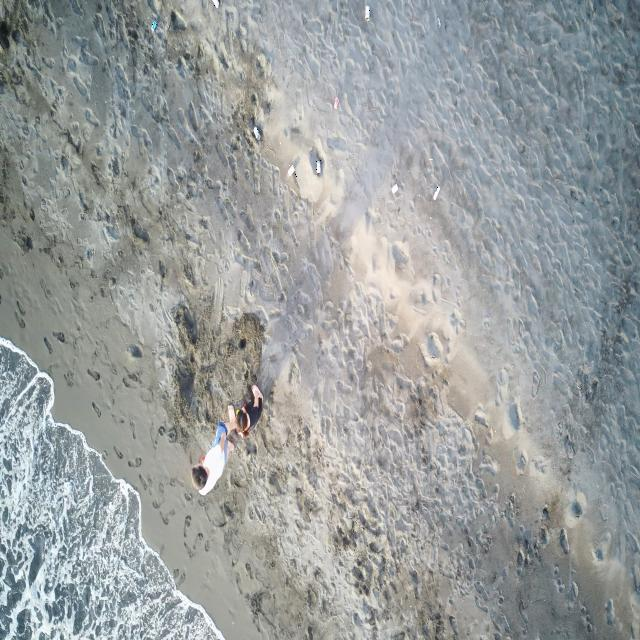tin-and-aluminum-cans: (286, 164, 297, 179), (253, 127, 261, 141), (150, 20, 158, 33), (433, 186, 440, 200), (365, 5, 370, 22), (316, 160, 321, 175), (333, 97, 339, 109), (213, 0, 220, 9), (392, 184, 398, 194)
